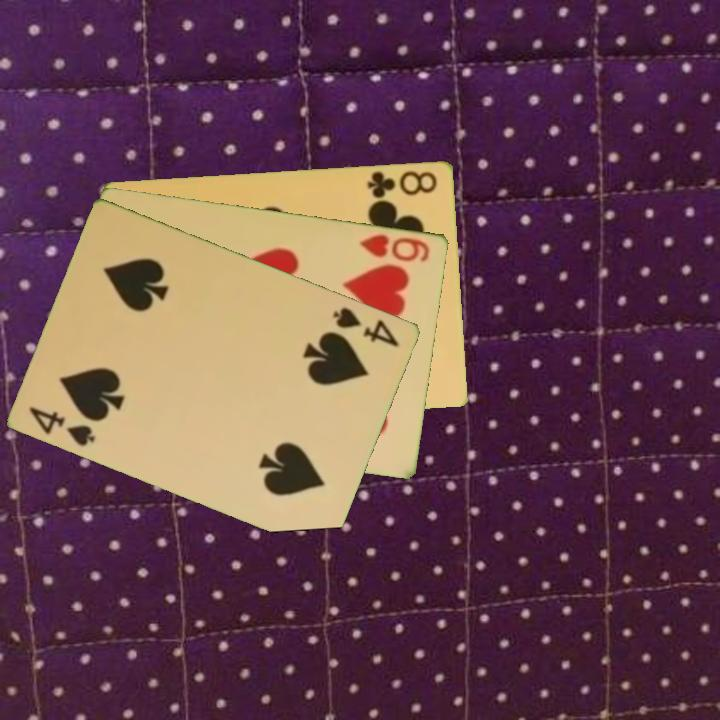4s: (329, 303, 403, 350), (26, 402, 99, 449)
6h: (356, 230, 433, 265)
8c: (364, 166, 440, 201)
